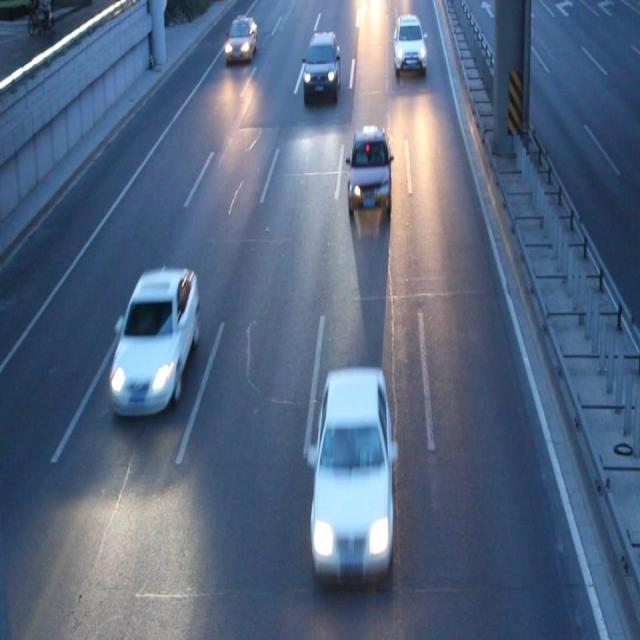car: (308, 367, 396, 569), (109, 268, 198, 416), (347, 129, 392, 215), (302, 33, 340, 101), (391, 14, 427, 75), (225, 15, 257, 60)
